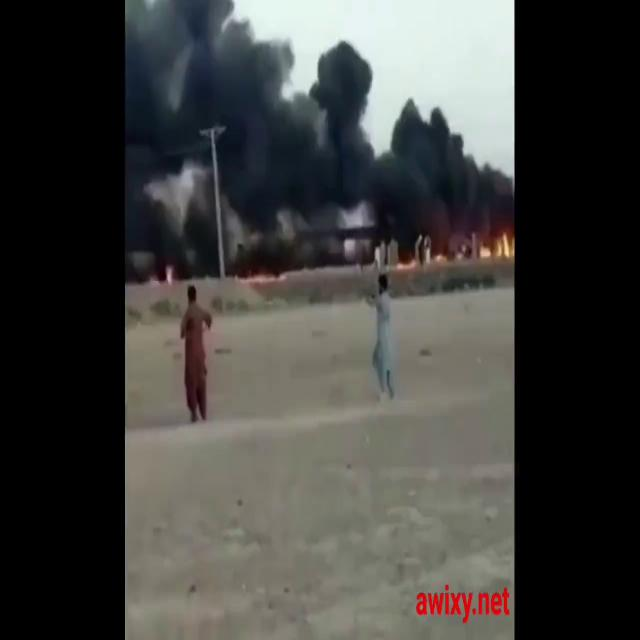Smoke: (128, 0, 513, 278)
